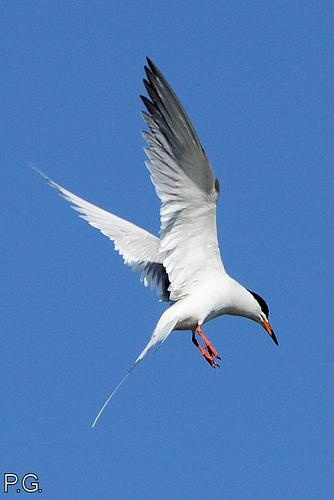bird: (24, 53, 280, 428)
